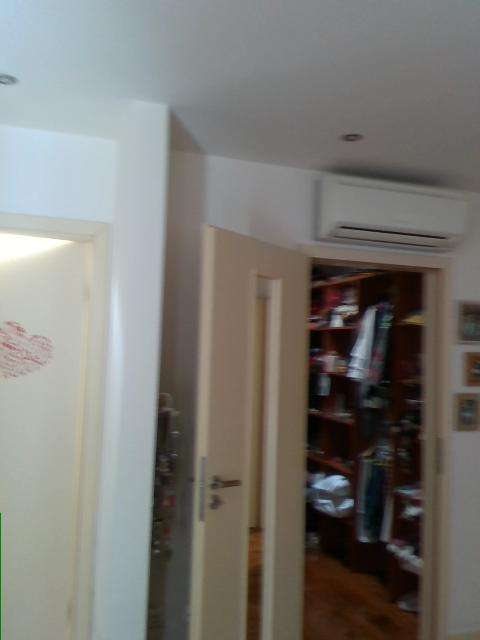open_door: (270, 243, 453, 638)
